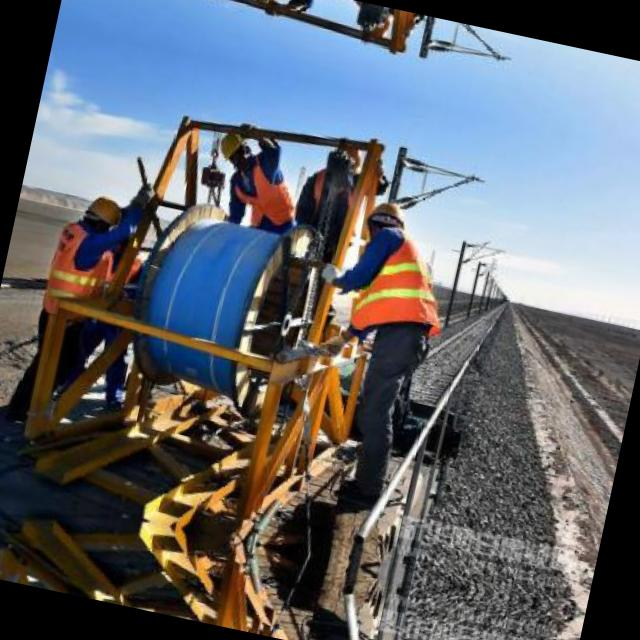helmet: (322, 128, 372, 184), (356, 192, 410, 242), (75, 188, 126, 239), (349, 1, 400, 52), (206, 118, 254, 168), (239, 0, 284, 14)
